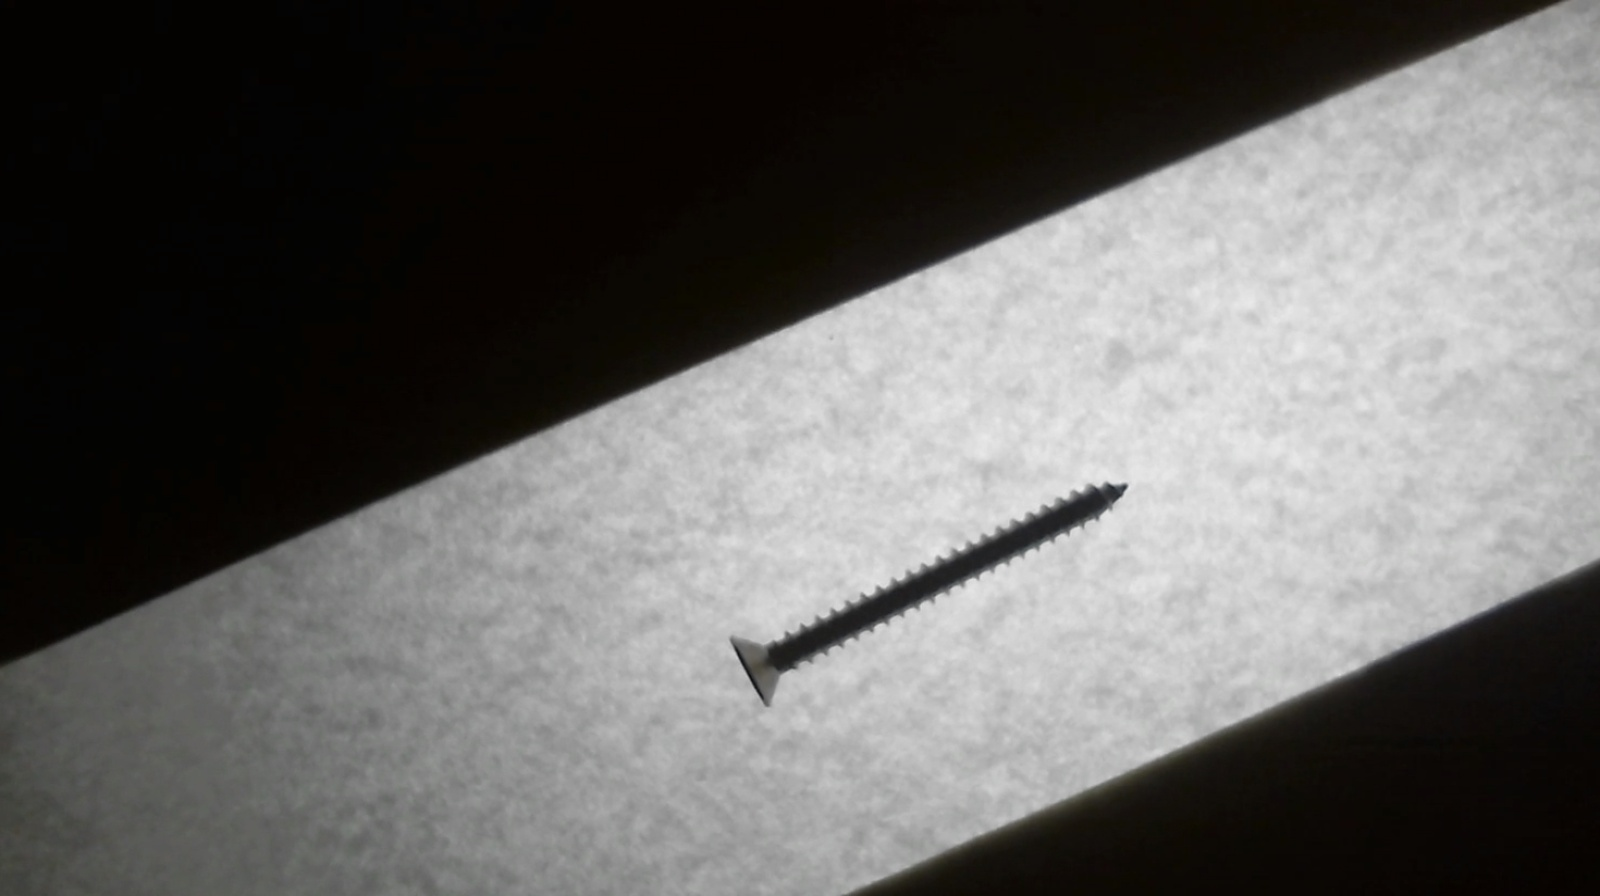S002: (695, 429, 1159, 718)
